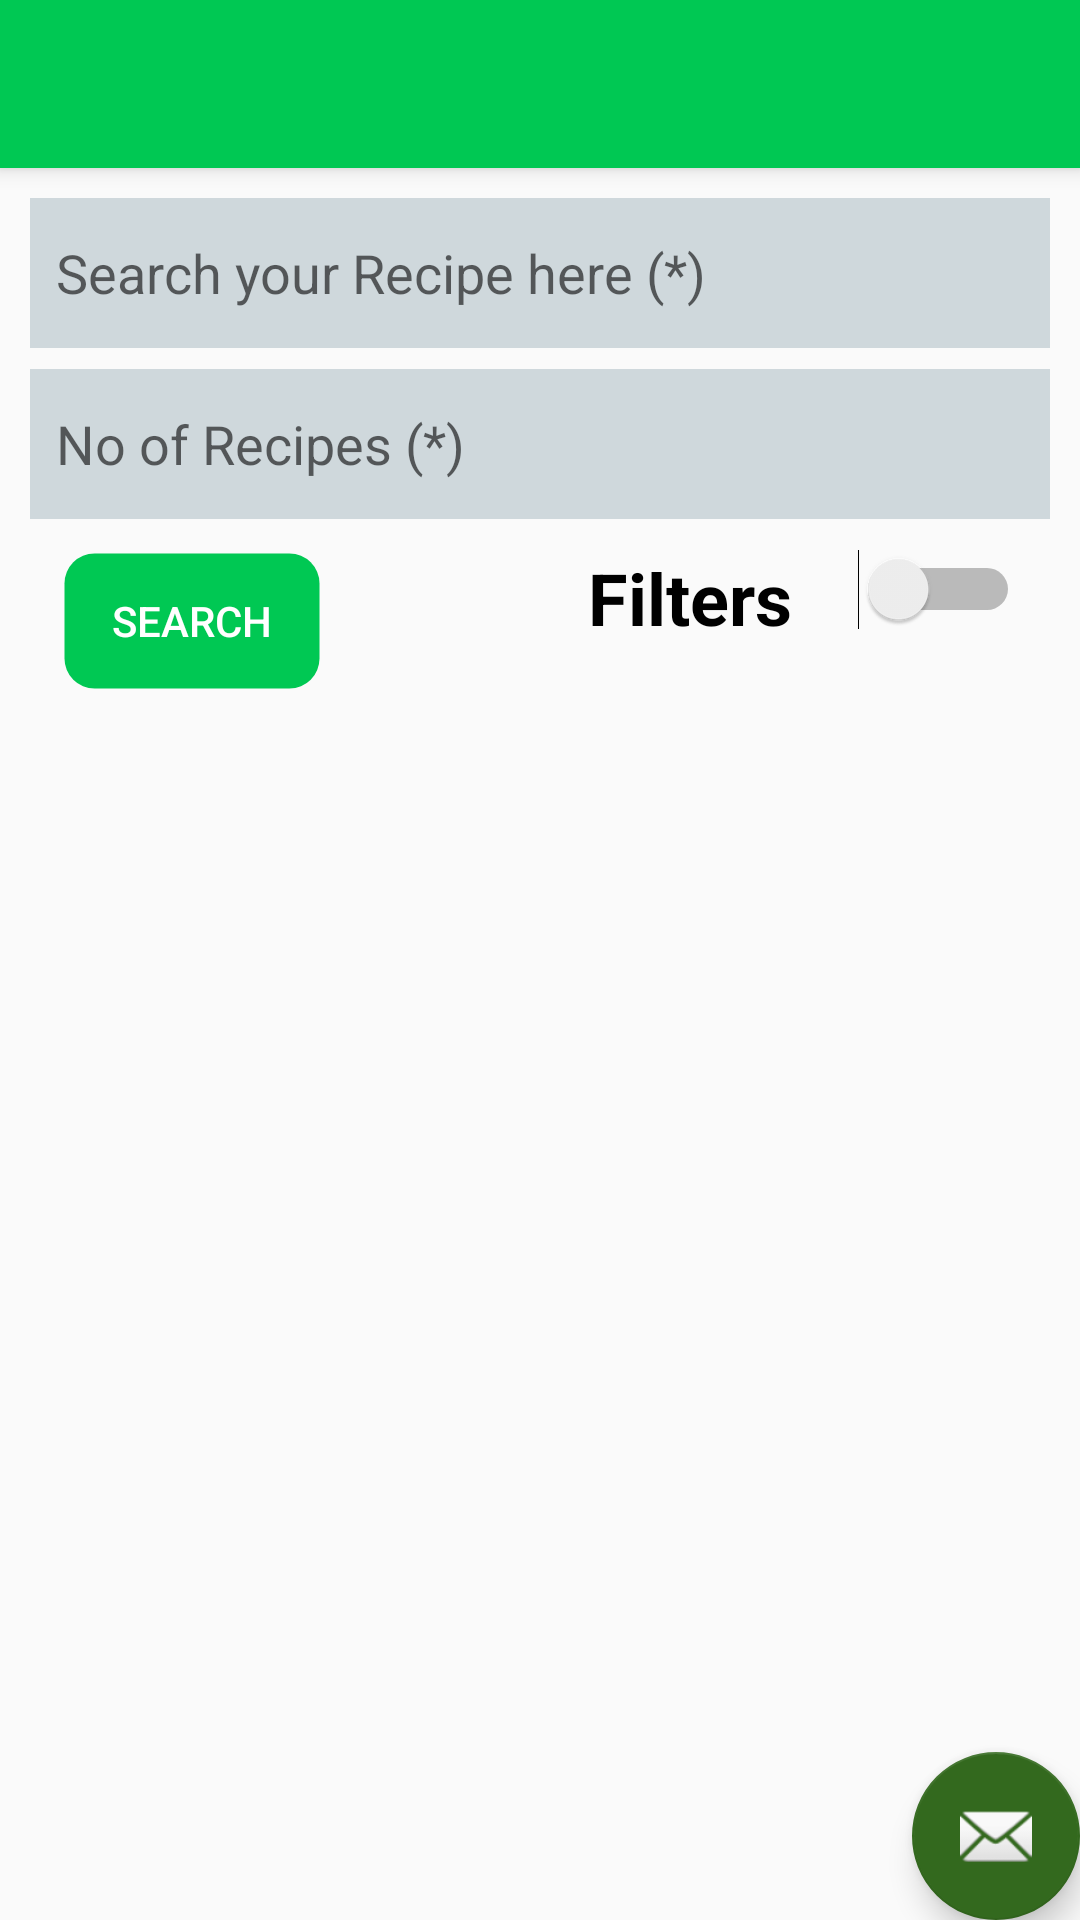

Where to tap for icons on this 1080×1920 app screen, as [x,y]:
email: [996,1836]
